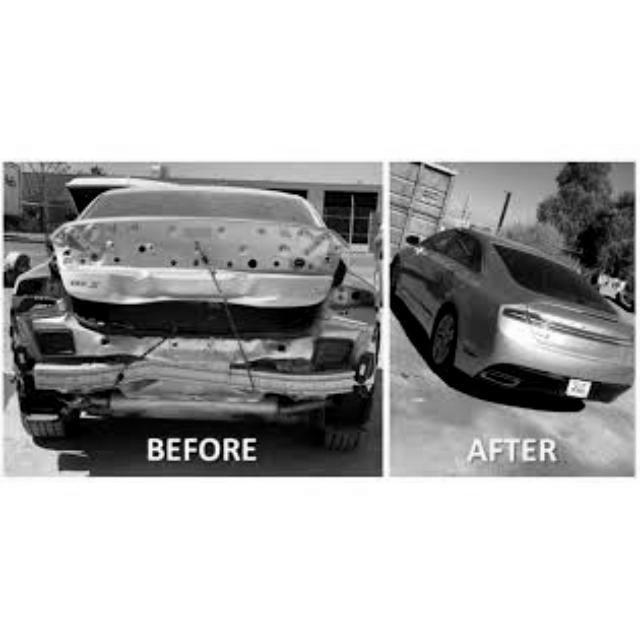Taillight-Damage: (13, 281, 64, 342), (331, 284, 379, 333)
boot-dent: (56, 226, 340, 327)
rear-bumper-dent: (19, 342, 378, 432)
